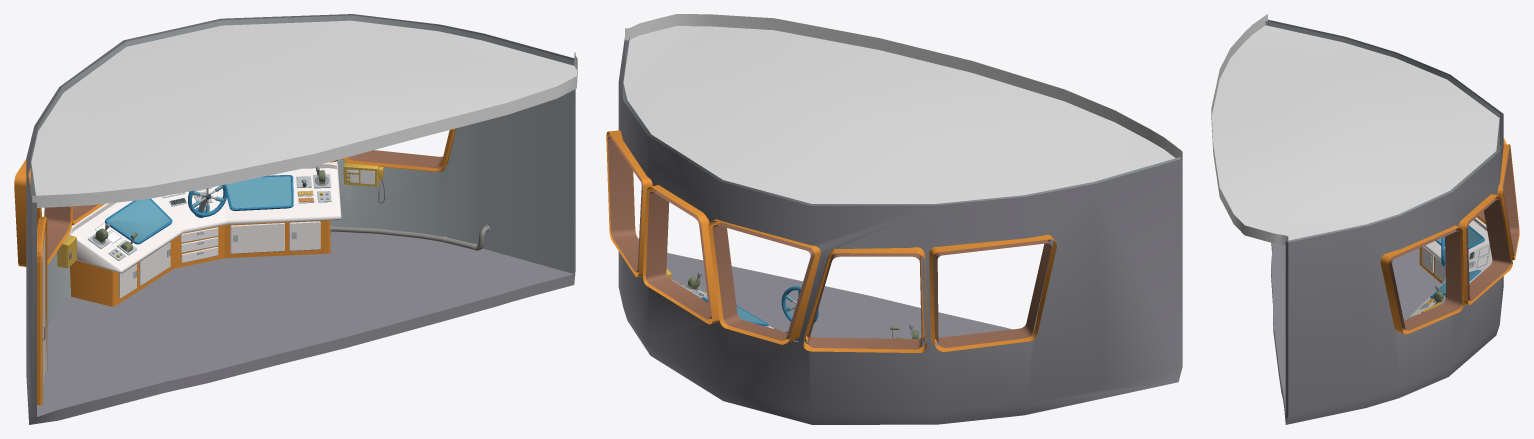
The model's file is Helm00a.fbx.
3 views of the same model, side by side, from view 1: azimuth 30°, elevation 25°; view 2: azimuth 150°, elevation 25°; view 3: azimuth 270°, elevation 25° (orthographic). The views are drawn at different scales.
Visible parts, largest first — view 1: Helm_WallsFloor, helmCeiling, centerConsole, helmDoor, helmPipe00, helmRadio, mechBox; view 2: Helm_WallsFloor, helmCeiling, centerConsole; view 3: helmCeiling, Helm_WallsFloor, centerConsole.
Boxes of the visible parts, x1=… form: Helm_WallsFloor: x1=14, y1=14, x2=575, y2=424; helmCeiling: x1=31, y1=20, x2=577, y2=207; centerConsole: x1=68, y1=161, x2=341, y2=306; helmDoor: x1=37, y1=216, x2=47, y2=405; helmPipe00: x1=330, y1=225, x2=489, y2=250; helmRadio: x1=343, y1=162, x2=385, y2=203; mechBox: x1=57, y1=235, x2=77, y2=267; Helm_WallsFloor: x1=606, y1=36, x2=1182, y2=424; helmCeiling: x1=623, y1=14, x2=1182, y2=203; centerConsole: x1=671, y1=272, x2=918, y2=341; helmCeiling: x1=1211, y1=14, x2=1499, y2=245; Helm_WallsFloor: x1=1265, y1=19, x2=1519, y2=424; centerConsole: x1=1408, y1=217, x2=1492, y2=318.
Bounding box in the file's own units: 62.55 × 25.85 × 36.69.
